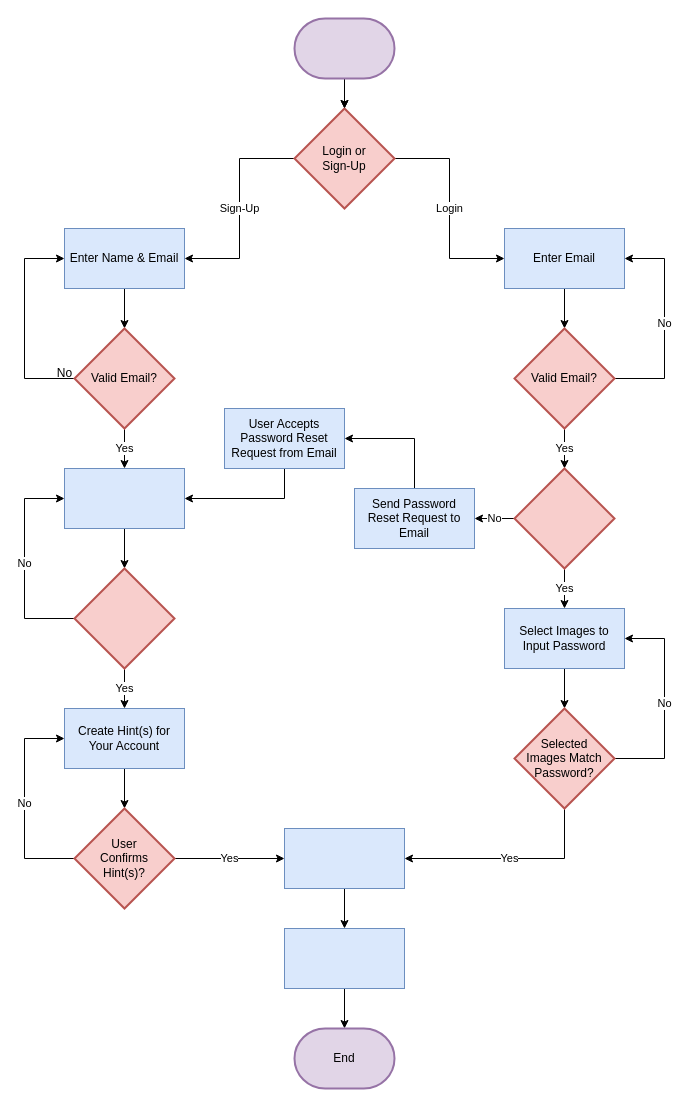
This 690x1106 diagram has some shape labels left out. Each missing label, with the centre of its shape:
Choose Images for Password Creation: (124,498)
Go to Site: (344,958)
Remember Password?: (564,518)
Start: (344,48)
User Logged In: (344,858)
User Verifies Selected Images?: (124,618)
